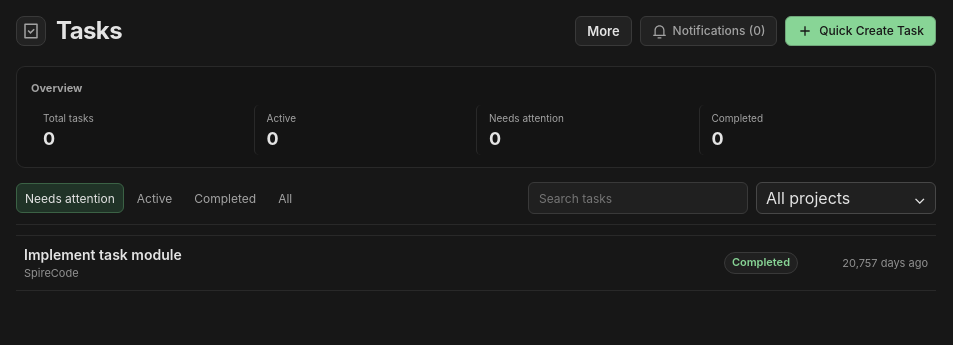
Test: offers clean-only bulk cleanup for completed managed workspaces
Click the heading "More" at (603,31), box left=575, top=16, right=632, bottom=46
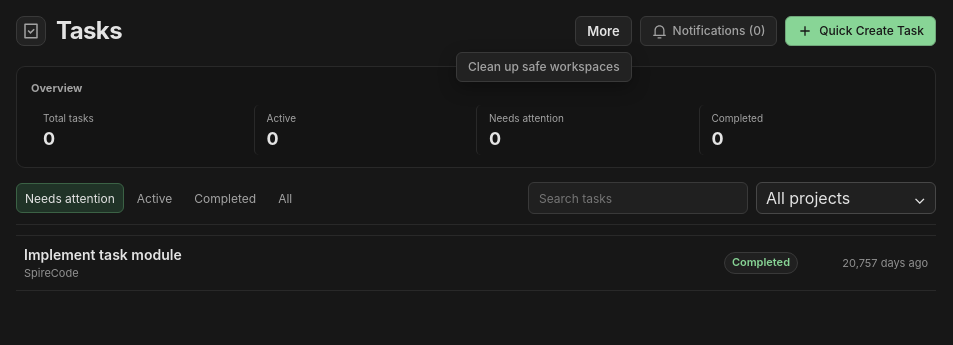
Click the button "Clean up safe workspaces" at (544,67), box left=456, top=52, right=632, bottom=82
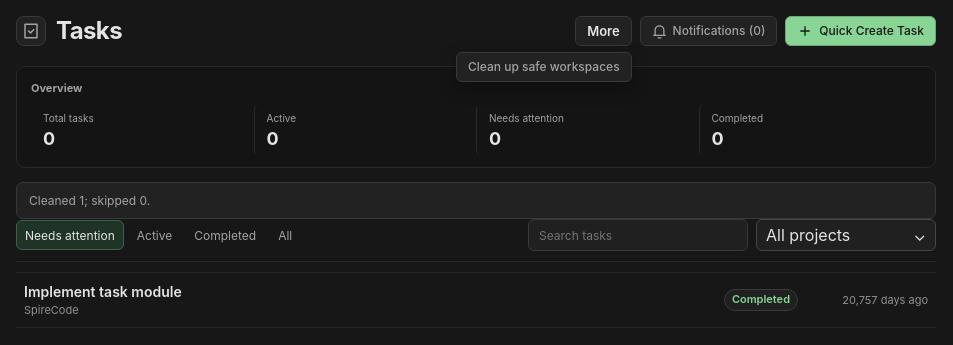
Expected: the text "Cleaned 1; skipped 0." is shown, left=16, top=182, right=936, bottom=219
